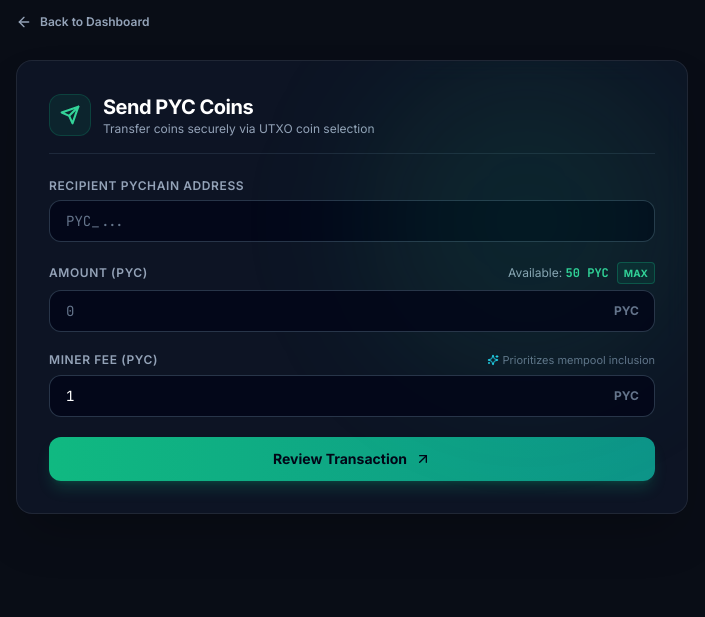
SendPage › rejects exponential notation in amount and fee inputs
Expected: the text "50 PYC" is shown, [566, 265, 609, 281]
Type "PYC_valid_recipient_123" into the field labelled "Recipient PyChain Address" at (352, 221), box [49, 200, 655, 242]
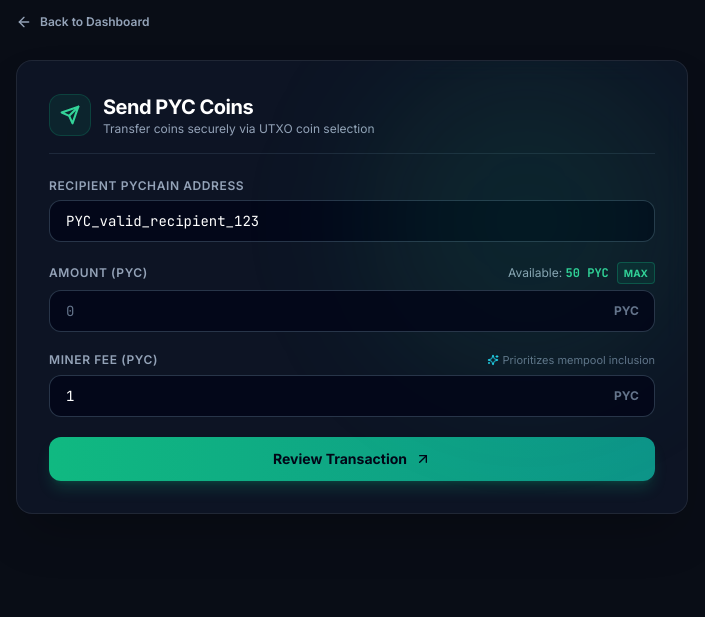
Type "1e2" into the number field labelled "Amount (PYC)" at (352, 311), box [49, 290, 655, 332]
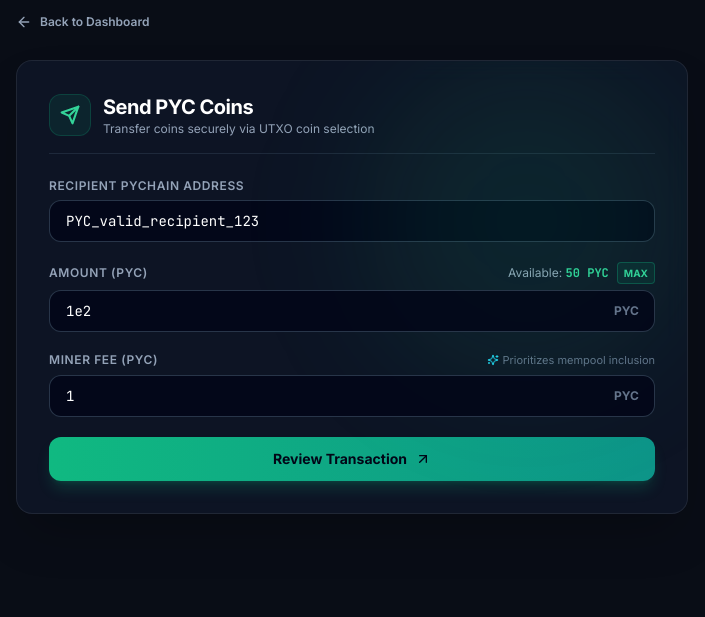
Click the button "Review Transaction" at (352, 458), box [49, 436, 655, 480]
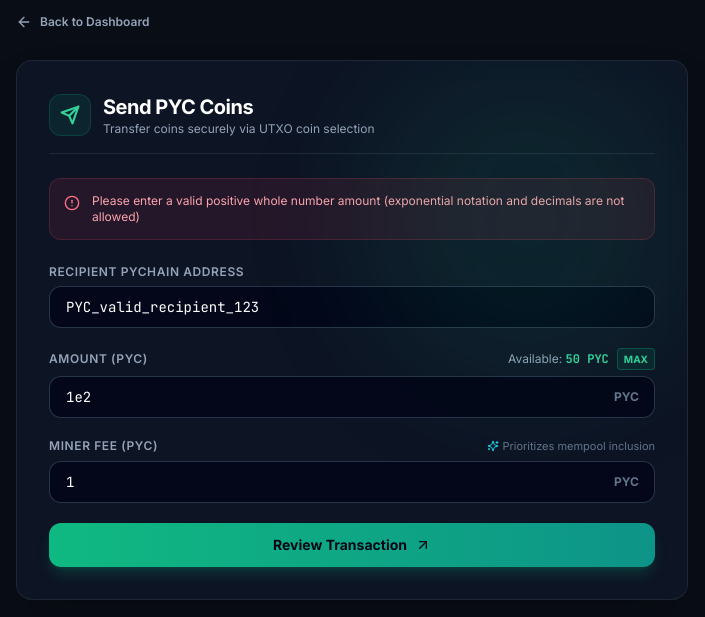
Expected: the text "exponential notation and decimals are not allowed" is shown, [92, 193, 624, 224]
